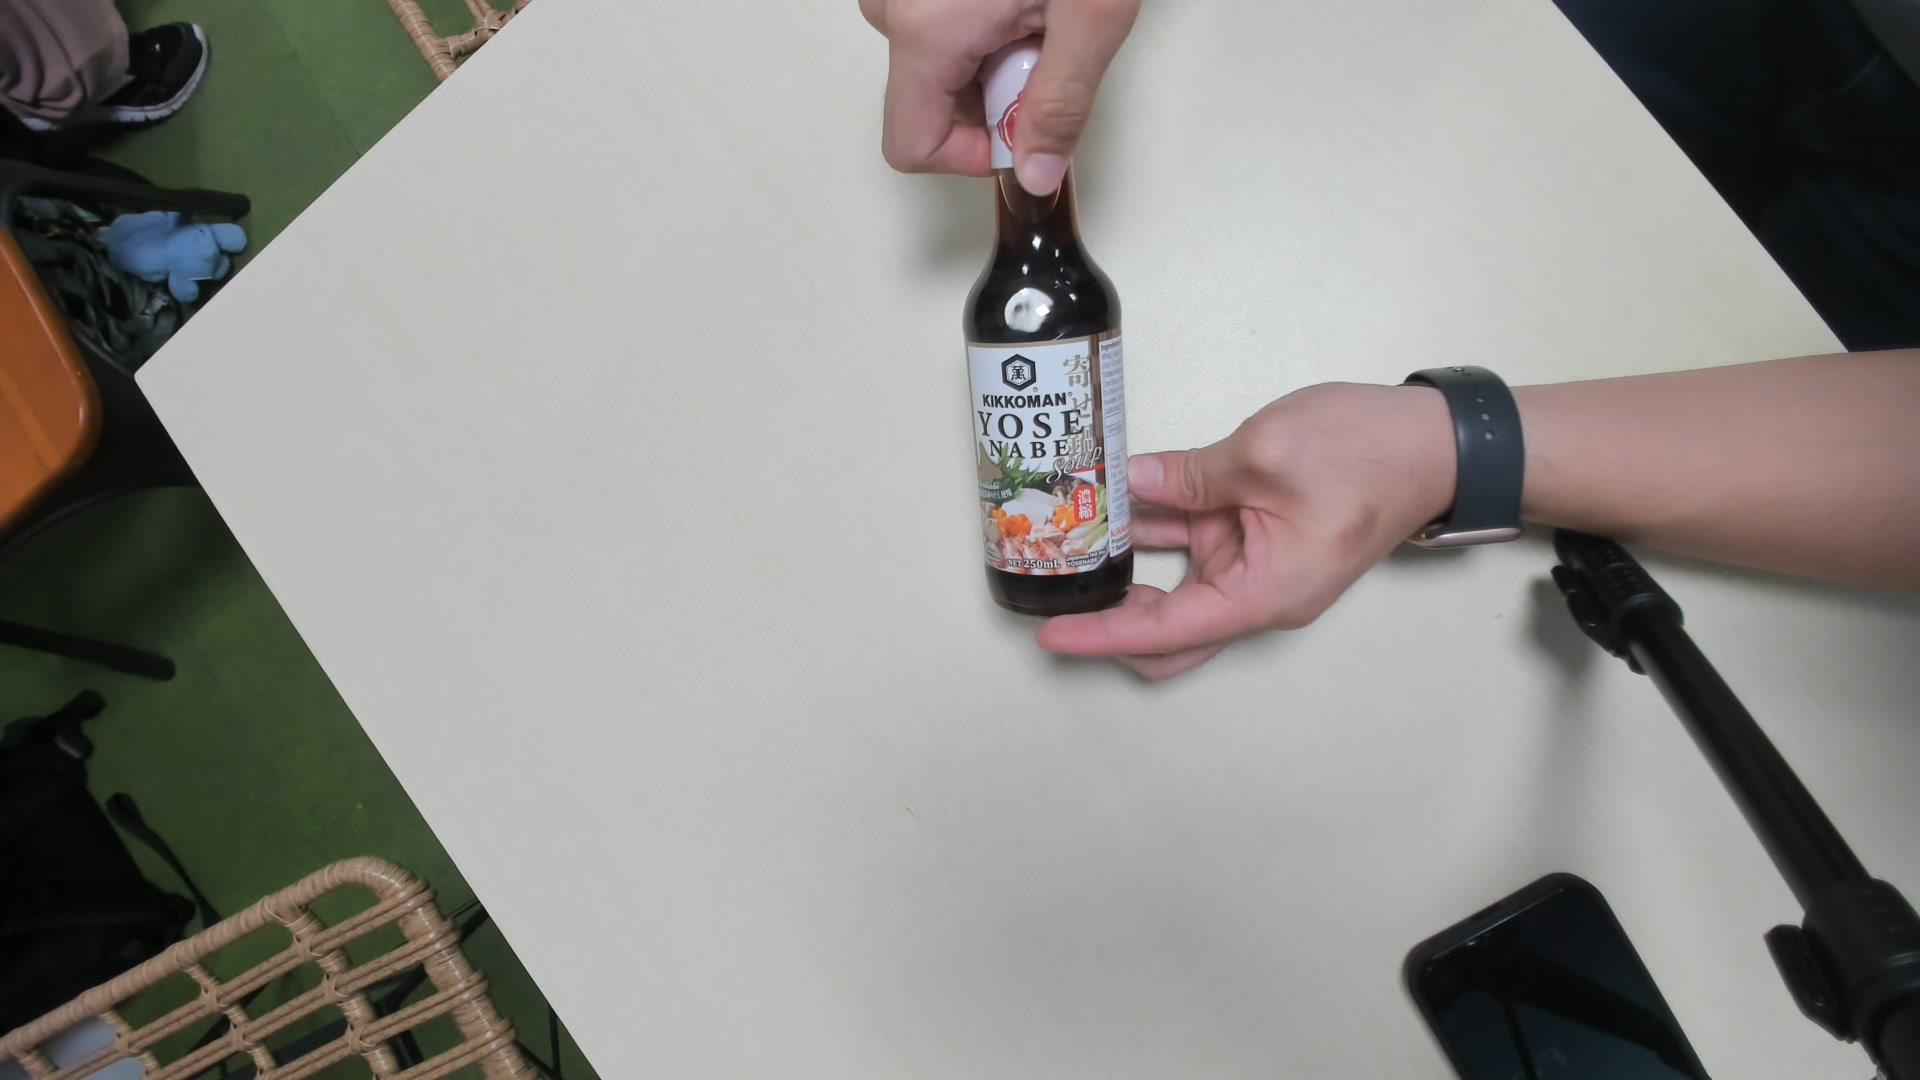OtherSauceDressing_200-299g_NonHalal_NonHealthy: (955, 36, 1138, 615)
